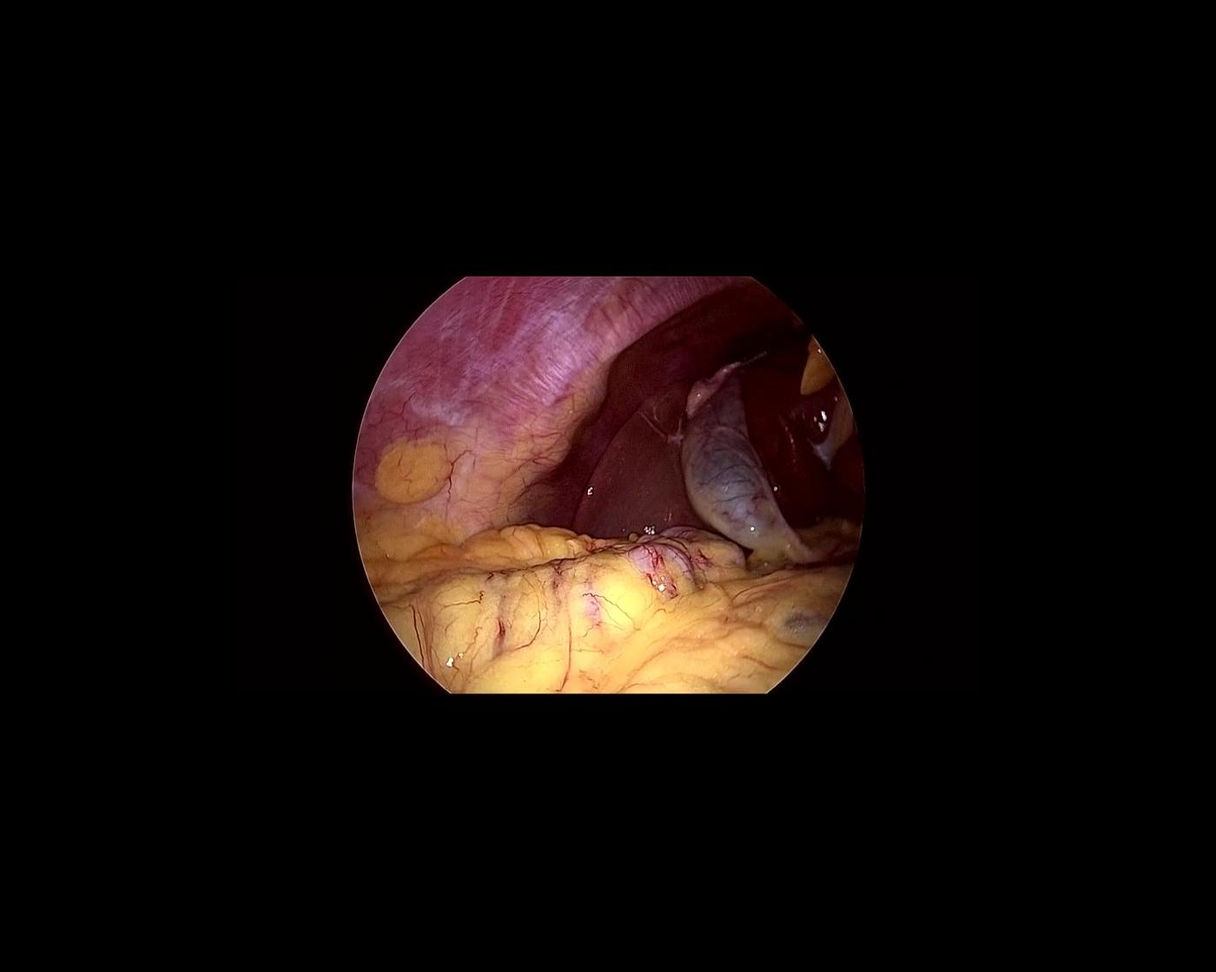Gallbladder: (657, 360, 799, 577)
Liver: (720, 342, 878, 544), (551, 380, 706, 547)
